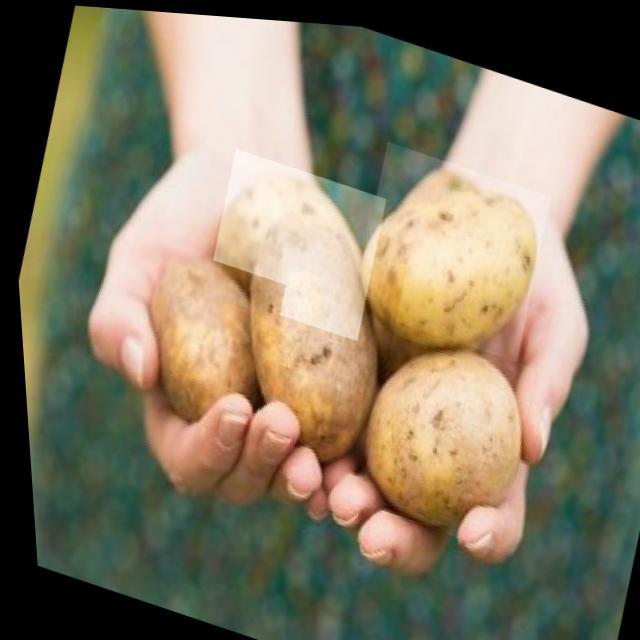Potato: (204, 189, 420, 475), (338, 133, 558, 371), (332, 309, 540, 546), (194, 142, 390, 338), (117, 240, 290, 442)
